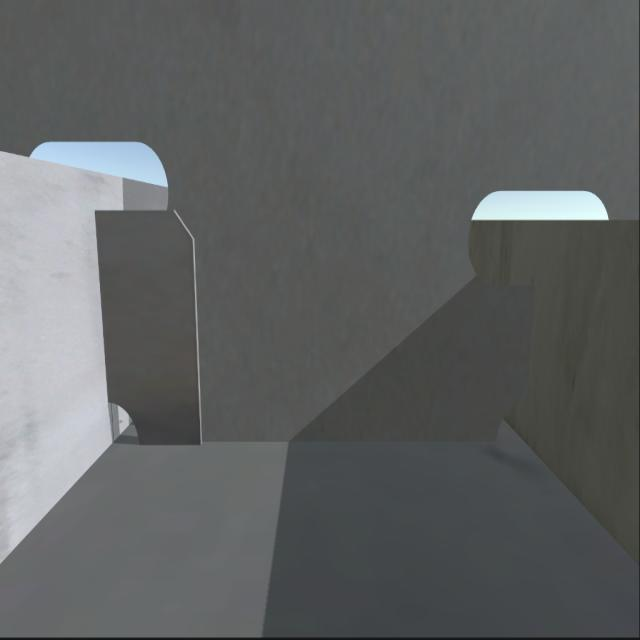fillet_hole: (105, 394, 139, 449), (494, 392, 528, 444)
fillet_yong_jeop_jang: (139, 431, 500, 452)
longi_yong_jeop_jang: (94, 206, 112, 403), (508, 282, 532, 416)
plate_CP01: (102, 201, 203, 452)
